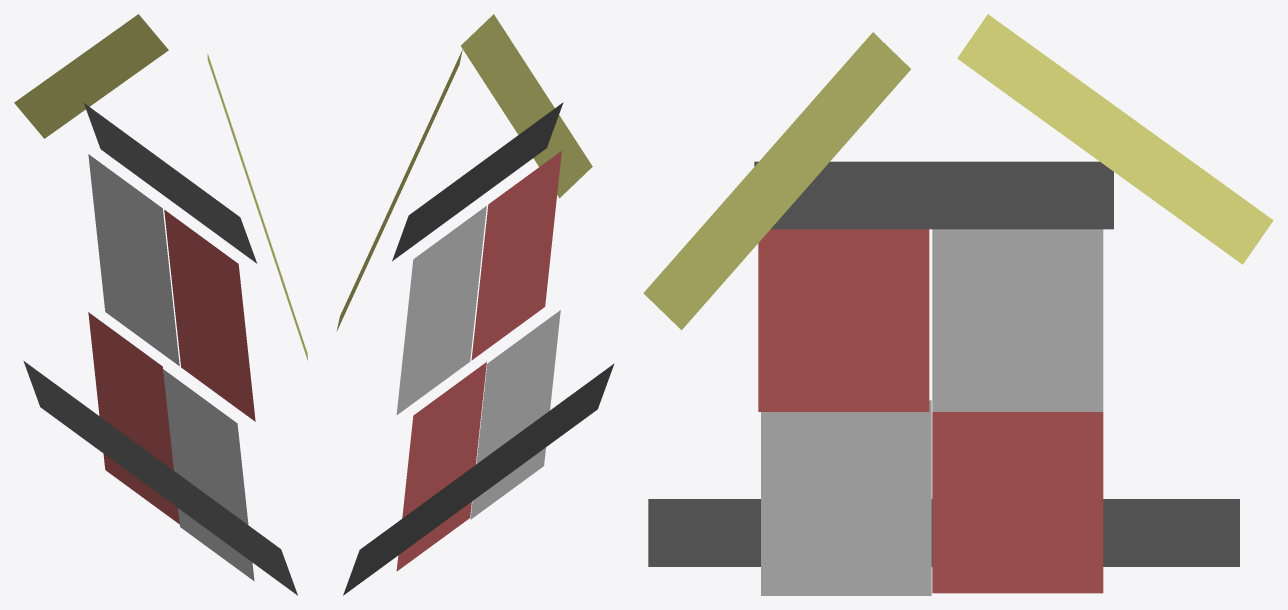
File: met-coat-of-arms.dae
3 views of the same model, side by side, from view 1: azimuth 30°, elevation 25°; view 2: azimuth 150°, elevation 25°; view 3: azimuth 270°, elevation 25° (orthographic). The views are drawn at different scales.
Parts seen in each view (by area): view 1: Plane_164, Plane_165, Plane_169, Plane_166, Plane_167, Plane_162, Plane_163, Plane_168; view 2: Plane_165, Plane_164, Plane_169, Plane_167, Plane_166, Plane_168, Plane_163, Plane_162; view 3: Plane_166, Plane_164, Plane_165, Plane_167, Plane_163, Plane_162, Plane_168, Plane_169.
Boxes of the visible parts, x1,y1,x2,y2 form: Plane_164: (88, 154, 179, 365); Plane_165: (164, 210, 255, 421); Plane_169: (23, 361, 297, 595); Plane_166: (163, 369, 254, 581); Plane_167: (88, 312, 179, 524); Plane_162: (14, 14, 168, 138); Plane_163: (84, 103, 257, 263); Plane_168: (207, 53, 307, 360); Plane_165: (471, 151, 561, 360); Plane_164: (396, 205, 486, 414); Plane_169: (343, 363, 614, 595); Plane_167: (396, 362, 486, 571); Plane_166: (470, 310, 560, 519); Plane_168: (461, 14, 592, 198); Plane_163: (392, 102, 563, 261); Plane_162: (336, 49, 462, 331); Plane_166: (761, 400, 931, 595); Plane_164: (932, 229, 1103, 411); Plane_165: (758, 229, 929, 411); Plane_167: (932, 412, 1103, 593); Plane_163: (754, 161, 1113, 229); Plane_162: (957, 14, 1273, 264); Plane_168: (643, 32, 910, 330); Plane_169: (648, 499, 1239, 566).
Size of the model in its own units: 0.0203 by 0.2343 by 0.2348.
